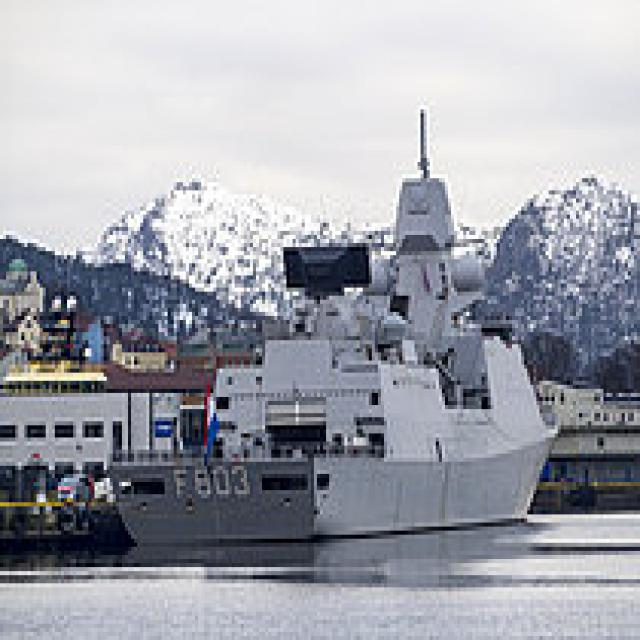Warship: (100, 105, 554, 547)
